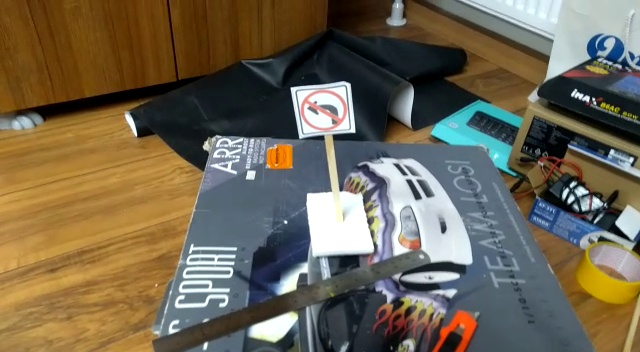sola_donulmez: (300, 85, 349, 138)
